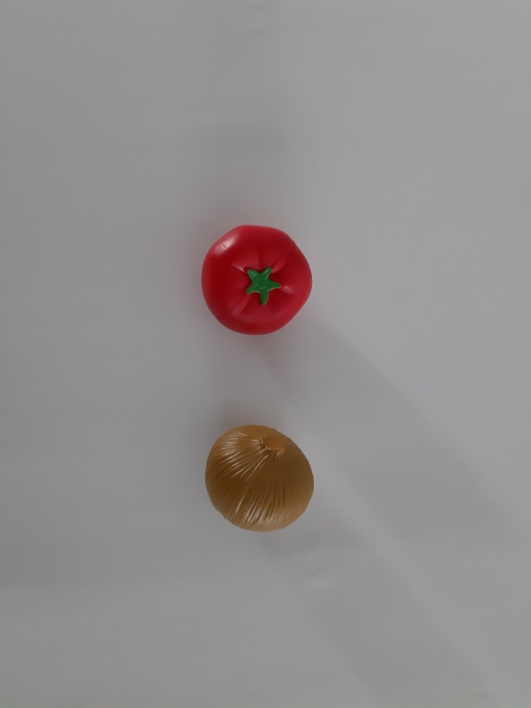onion: (195, 410, 329, 546)
tomato: (186, 211, 328, 345)
